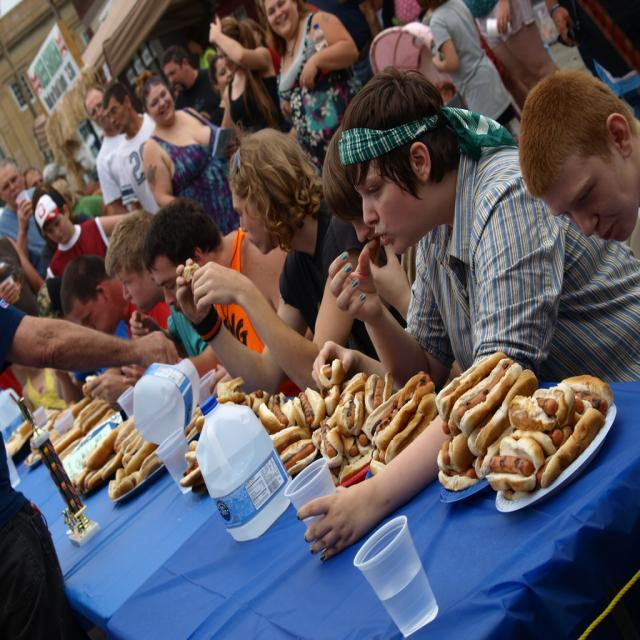Hot dog: (77, 358, 431, 500), (435, 353, 537, 489), (508, 375, 616, 489), (490, 441, 544, 495)
